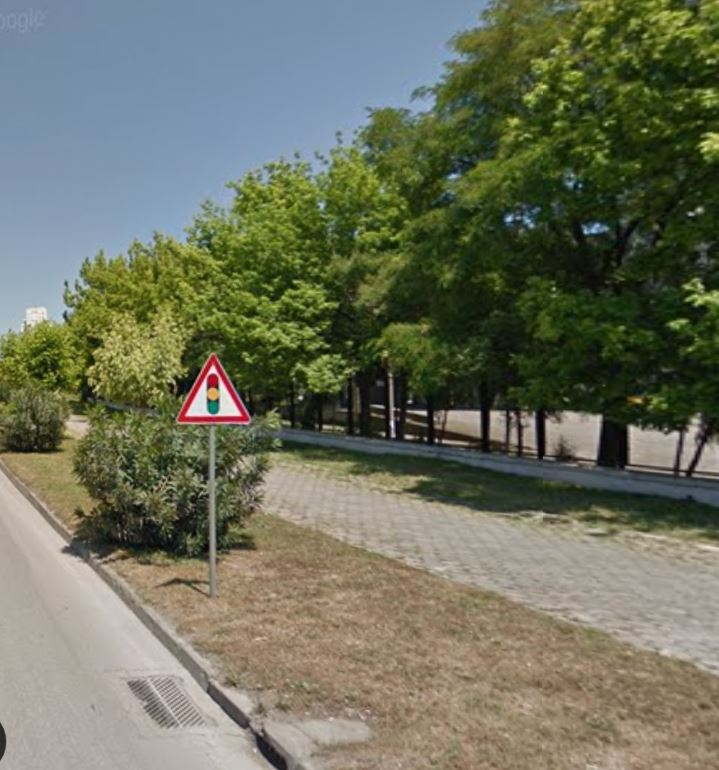Trafikisiklari: (175, 350, 248, 421)
